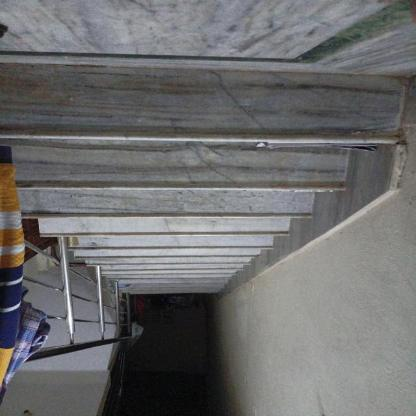stair: (1, 26, 376, 311)
